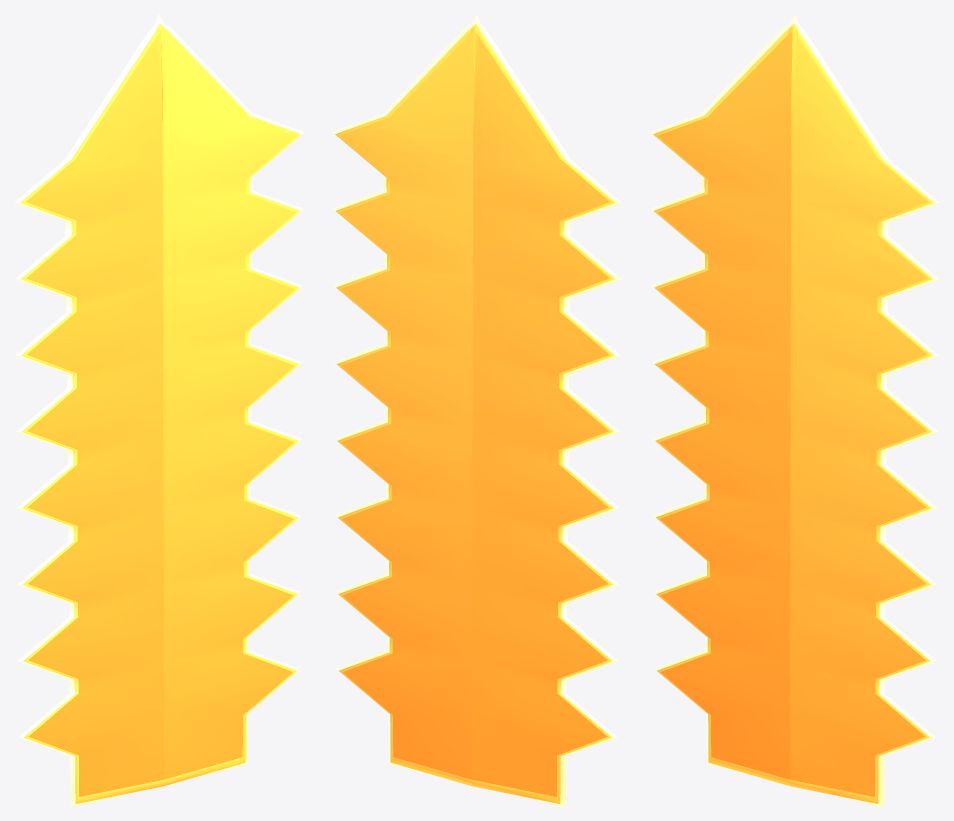
The model's file is gold_blade (9).glb.
3 renders of one model, left to right at view 1: azimuth 30°, elevation 25°; view 2: azimuth 150°, elevation 25°; view 3: azimuth 330°, elevation 25°, orthographic.
Parts seen in each view (by area): view 1: gold_blade_steel.030; view 2: gold_blade_steel.030; view 3: gold_blade_steel.030.
Boxes of the visible parts, left/top/right/bottom form: gold_blade_steel.030: left=14, top=14, right=303, bottom=806; gold_blade_steel.030: left=332, top=14, right=621, bottom=806; gold_blade_steel.030: left=650, top=14, right=939, bottom=806.
Bounding box in the file's own units: 4.48 × 11.41 × 0.2879.
1 material, 1 textured.
